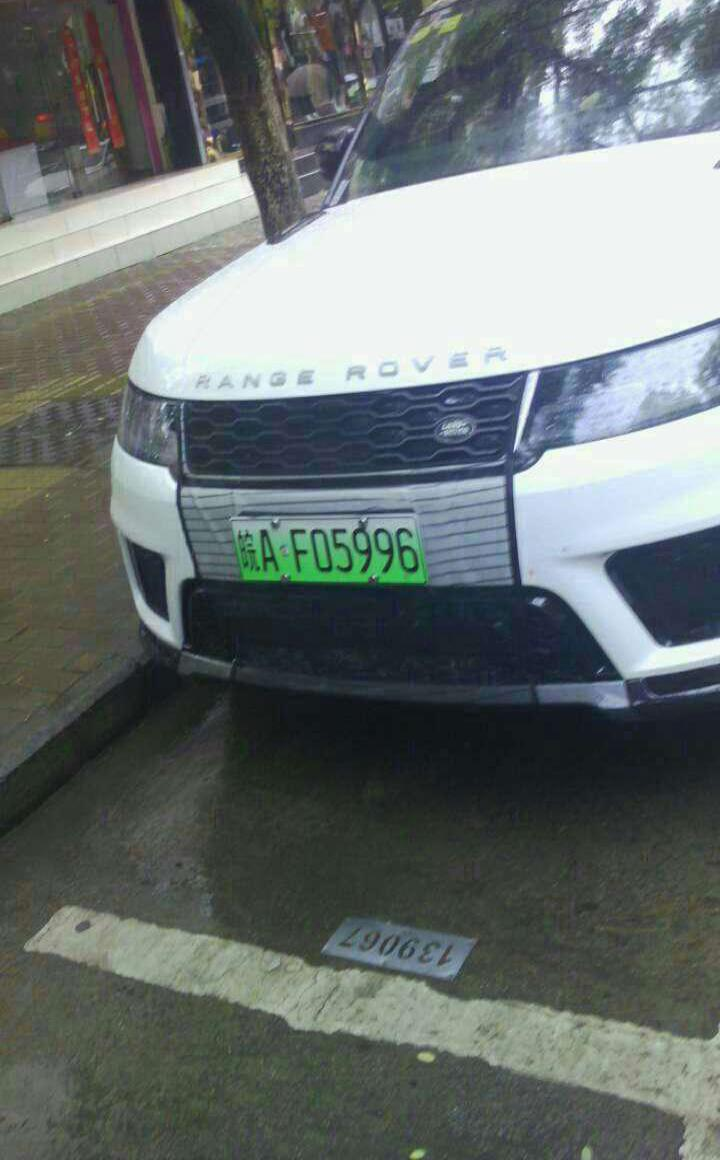car: (230, 521, 438, 584)
